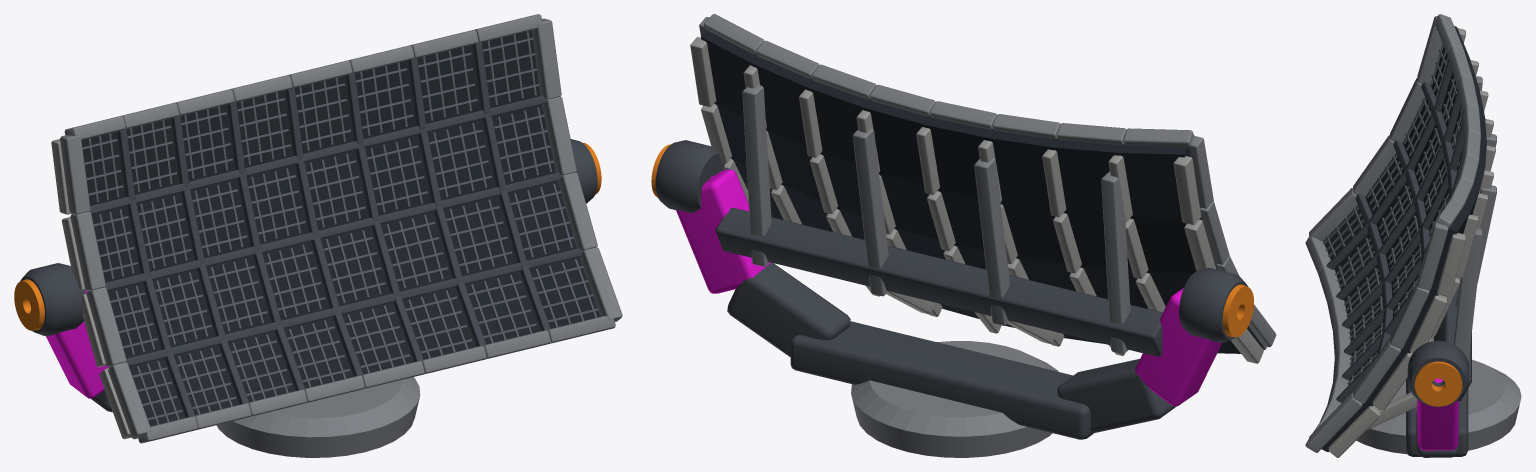
The model's file is radar-dish.glb.
3 renders of one model, left to right at view 1: azimuth 30°, elevation 25°; view 2: azimuth 150°, elevation 25°; view 3: azimuth 270°, elevation 25°, orthographic. The views are drawn at different scales.
Parts seen in each view (by area): view 1: Assembly; view 2: Assembly; view 3: Assembly.
Boxes of the visible parts, <box> form: Assembly: <box>14,14,622,457</box>; Assembly: <box>651,14,1276,457</box>; Assembly: <box>1305,14,1521,457</box>.
Size of the model in its own units: 3.69 by 2.13 by 1.38.
